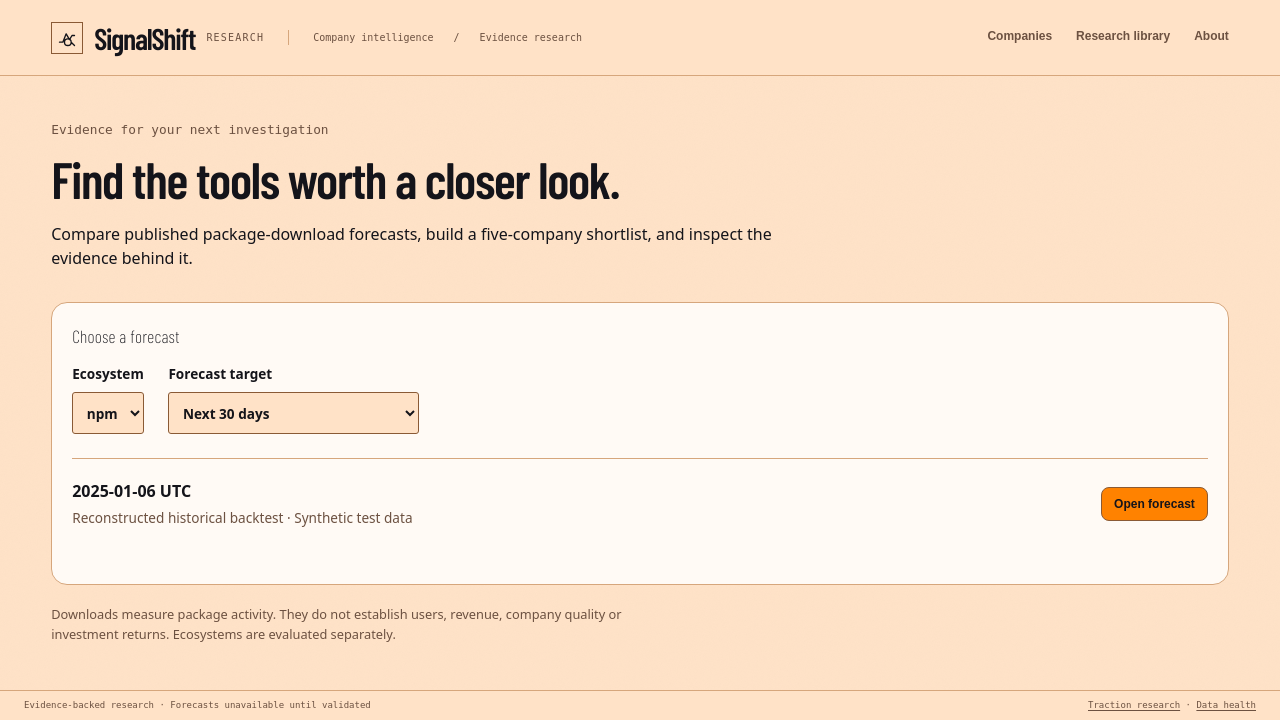
Test: shows only published combinations and an empty second ecosystem
The image size is (1280, 720).
Expected: the link "Open forecast" is shown, [1101,487,1208,521]
Select "PyPI" in the dropdown labelled "Ecosystem" at {"x": 108, "y": 413}, box [72,392,144,434]
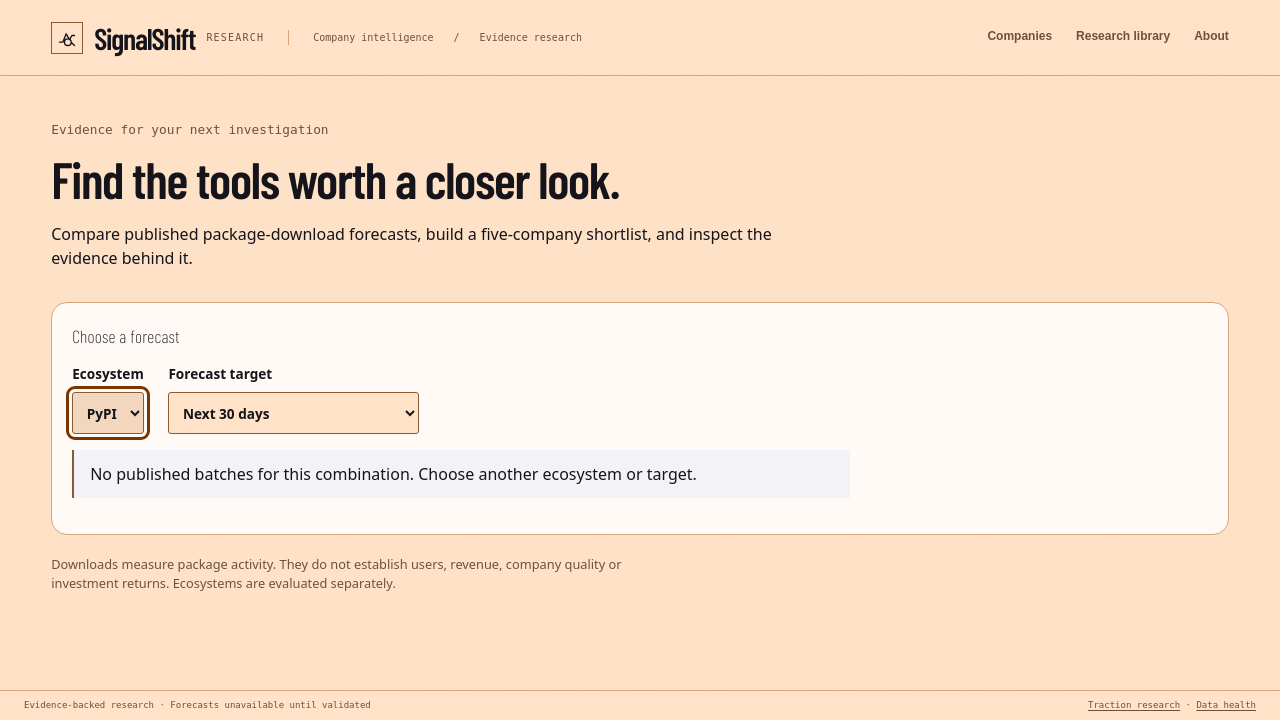
Expected: the text "No published batches" is shown, [90,463,697,485]
